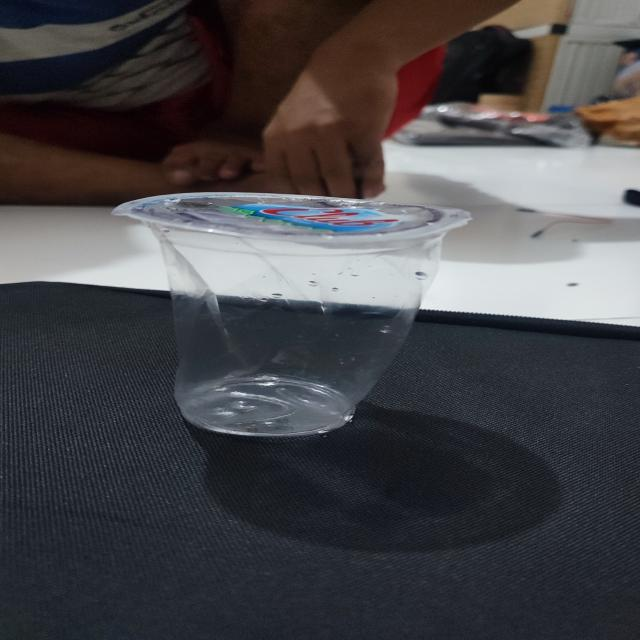air-gelas-rusak: (98, 184, 467, 443)
